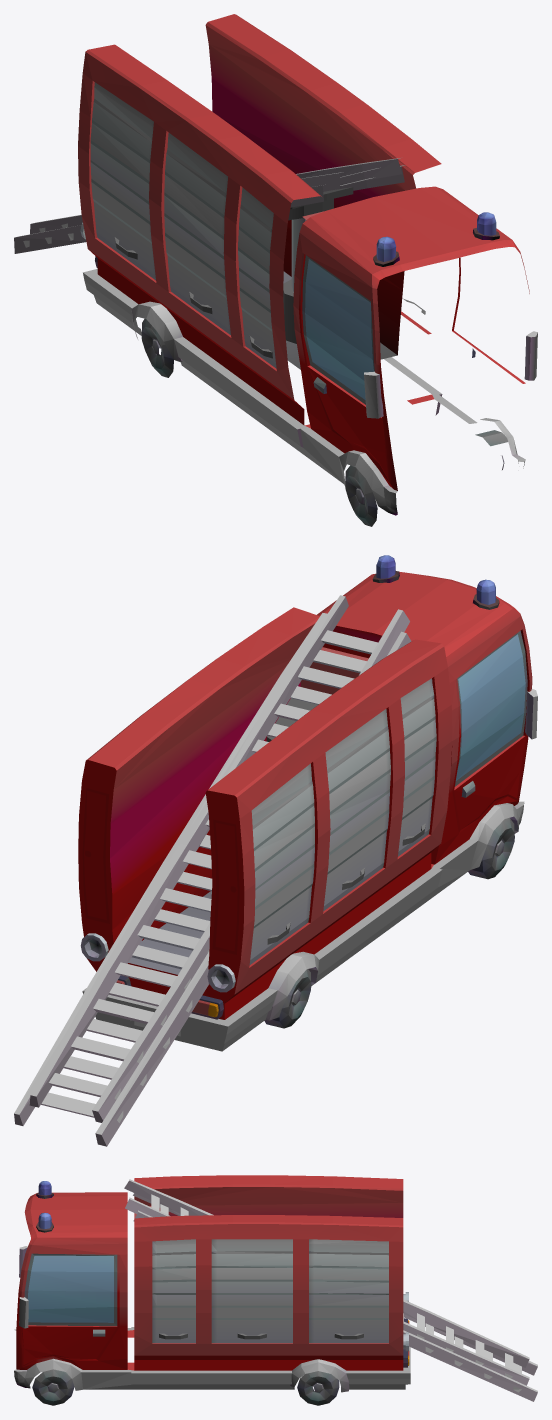
Rendered from city_ramp5_fireTruckRamp02.glb.
3 renders of one model, top to bottom at view 1: azimuth 30°, elevation 25°; view 2: azimuth 150°, elevation 25°; view 3: azimuth 270°, elevation 25°, orthographic. The views are drawn at different scales.
Parts seen in each view (by area): view 1: city_ramp5_fireTruckRamp02; view 2: city_ramp5_fireTruckRamp02; view 3: city_ramp5_fireTruckRamp02.
Part boxes in pixels (x1,y1,x2,y2): city_ramp5_fireTruckRamp02: (14,14,537,526); city_ramp5_fireTruckRamp02: (14,555,537,1146); city_ramp5_fireTruckRamp02: (14,1175,537,1405).
Bounding box in the file's own units: 1.21 × 2.03 × 4.87.
